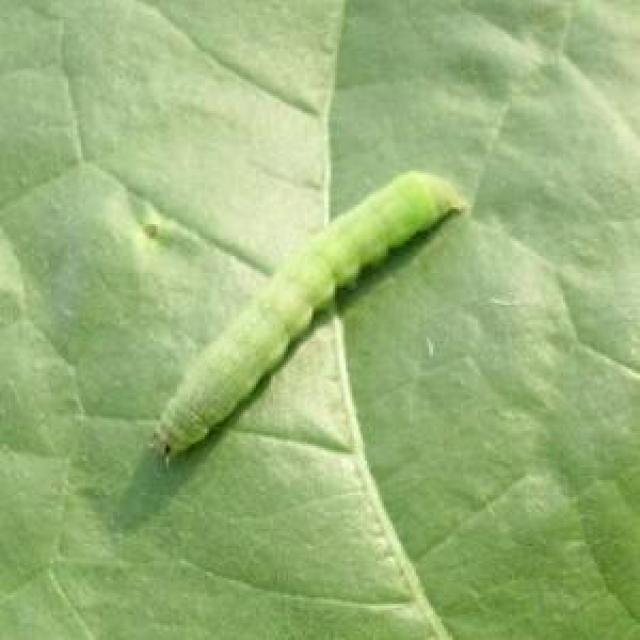BeetArmyWorm-Larva-: (143, 163, 465, 472)
